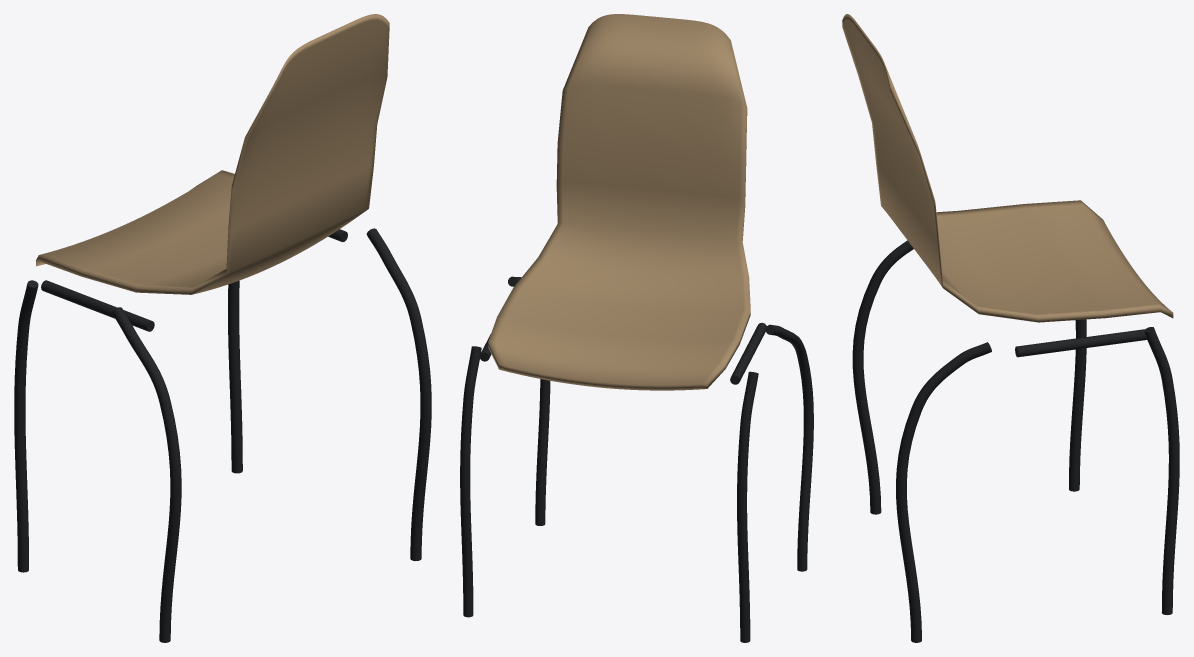
The model's file is model-fad88eb16f50.glb.
The picture shows the model from 3 angles, left to right: view 1: azimuth 30°, elevation 25°; view 2: azimuth 150°, elevation 25°; view 3: azimuth 270°, elevation 25°; orthographic projection. The views are drawn at different scales.
Parts seen in each view (by area): view 1: source_guided_clean_continuous_molded_chair_shell, source_chair_visible_near_leg_candidate, source_chair_visible_far_leg_candidate, source_chair_INFERRED_hidden_front_leg_1, source_chair_INFERRED_hidden_front_leg_-1, source_chair_INFERRED_underseat_side_1; view 2: source_guided_clean_continuous_molded_chair_shell, source_chair_INFERRED_hidden_front_leg_-1, source_chair_INFERRED_hidden_front_leg_1, source_chair_visible_near_leg_candidate, source_chair_visible_far_leg_candidate, source_chair_INFERRED_underseat_side_1; view 3: source_guided_clean_continuous_molded_chair_shell, source_chair_visible_far_leg_candidate, source_chair_INFERRED_hidden_front_leg_-1, source_chair_visible_near_leg_candidate, source_chair_INFERRED_hidden_front_leg_1, source_chair_INFERRED_underseat_side_-1.
Boxes of the visible parts, <box> form: source_guided_clean_continuous_molded_chair_shell: <box>36,14,389,294</box>; source_chair_visible_near_leg_candidate: <box>112,307,181,642</box>; source_chair_visible_far_leg_candidate: <box>366,228,431,560</box>; source_chair_INFERRED_hidden_front_leg_1: <box>14,280,38,572</box>; source_chair_INFERRED_hidden_front_leg_-1: <box>228,280,242,473</box>; source_chair_INFERRED_underseat_side_1: <box>41,280,154,331</box>; source_guided_clean_continuous_molded_chair_shell: <box>488,14,750,390</box>; source_chair_INFERRED_hidden_front_leg_-1: <box>460,346,481,617</box>; source_chair_INFERRED_hidden_front_leg_1: <box>737,371,758,642</box>; source_chair_visible_near_leg_candidate: <box>765,324,813,571</box>; source_chair_visible_far_leg_candidate: <box>508,276,550,525</box>; source_chair_INFERRED_underseat_side_1: <box>730,322,766,384</box>; source_guided_clean_continuous_molded_chair_shell: <box>842,14,1173,322</box>; source_chair_visible_far_leg_candidate: <box>896,342,991,642</box>; source_chair_INFERRED_hidden_front_leg_-1: <box>1144,327,1179,614</box>; source_chair_visible_near_leg_candidate: <box>852,240,913,514</box>; source_chair_INFERRED_hidden_front_leg_1: <box>1069,319,1086,491</box>; source_chair_INFERRED_underseat_side_-1: <box>1015,329,1146,357</box>.
Size of the model in its own units: 0.4938 by 0.839 by 0.4623.
